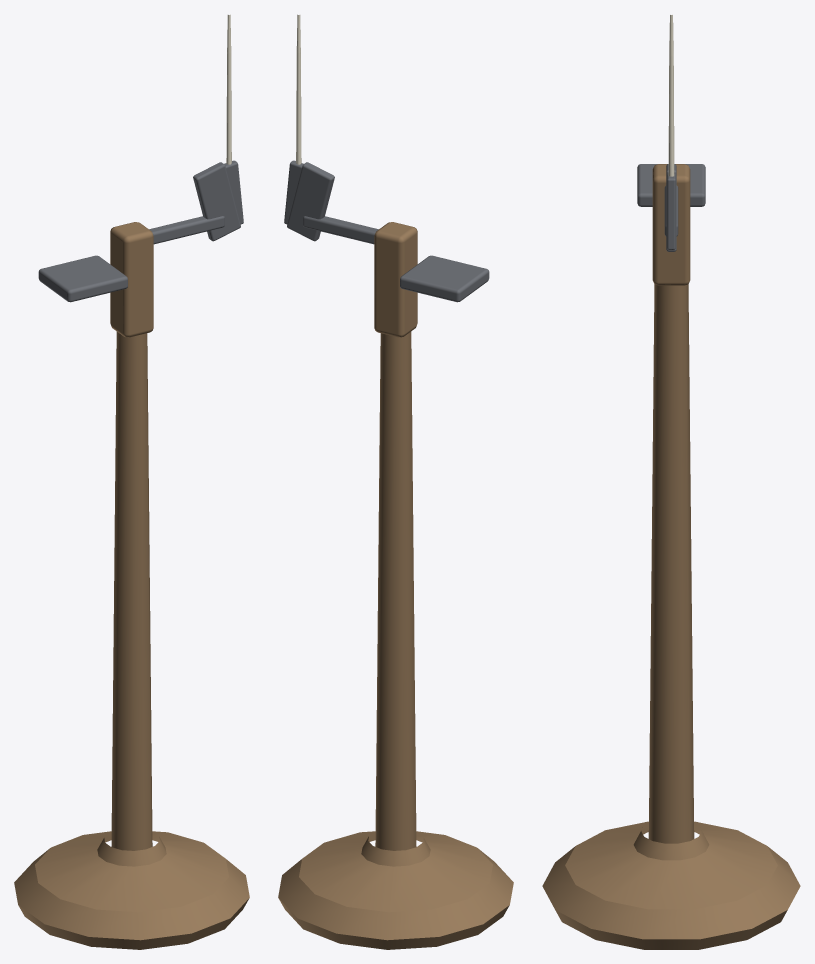
File: rush-light-stand.glb
The picture shows the model from 3 angles, left to right: view 1: azimuth 30°, elevation 25°; view 2: azimuth 150°, elevation 25°; view 3: azimuth 270°, elevation 25°; orthographic projection. The views are drawn at different scales.
Visible parts, largest first — view 1: rush-light-stand; view 2: rush-light-stand; view 3: rush-light-stand.
Part boxes in pixels (left/top/right/bottom): rush-light-stand: left=14, top=14, right=249, bottom=949; rush-light-stand: left=278, top=14, right=513, bottom=949; rush-light-stand: left=542, top=15, right=800, bottom=949.
Bounding box in the file's own units: 0.3478 × 1.36 × 0.34.
